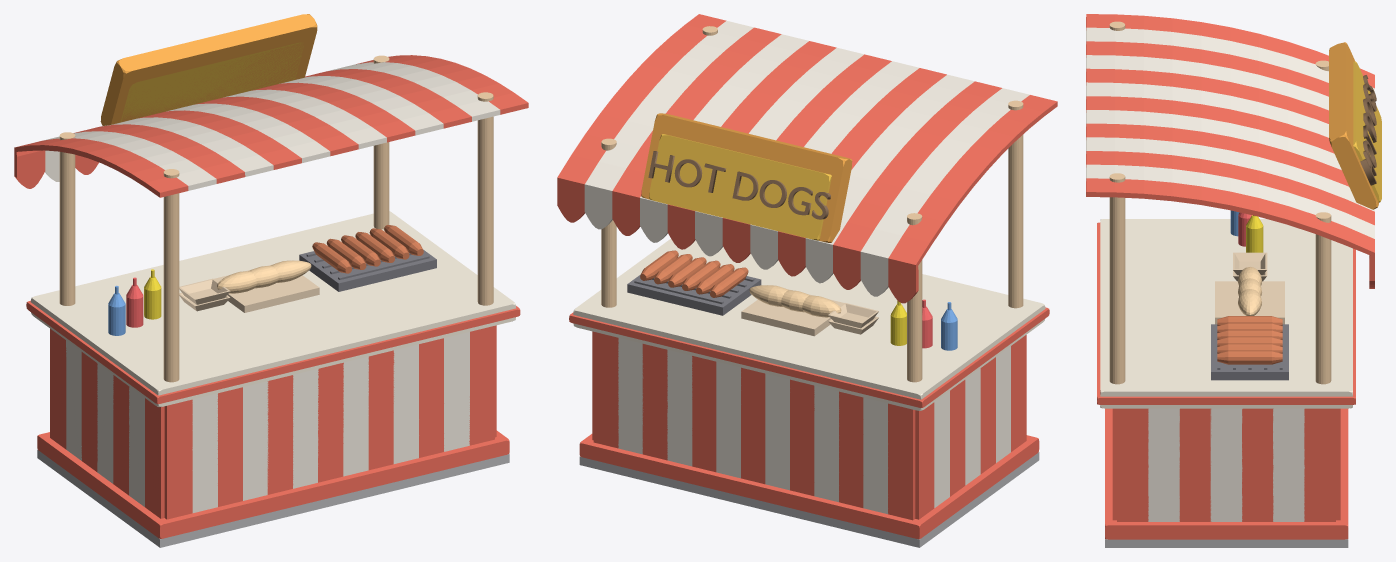
Rendered from 33-hot-dog-stand-hd9.glb.
3 renders of one model, left to right at view 1: azimuth 30°, elevation 25°; view 2: azimuth 150°, elevation 25°; view 3: azimuth 270°, elevation 25°, orthographic. The views are drawn at different scales.
Parts seen in each view (by area): view 1: Countertop, Canopy, SignFrame, BaseTrim, SignPlate, CounterRim, BasePlate, Post_2, Post_3, Skirt_back_0, Skirt_back_6, Skirt_back_1 (+24 smaller); view 2: Canopy, Countertop, SignPlate, BaseTrim, SignFrame, CounterRim, BasePlate, Skirt_front_0, Skirt_front_12, Skirt_front_10, Skirt_front_9, Post_2 (+23 smaller); view 3: Canopy, Countertop, BaseTrim, SignFrame, Skirt_right_3, Skirt_right_6, Skirt_right_0, Skirt_right_1, Skirt_right_5, Skirt_right_4, Skirt_right_2, CounterRim (+18 smaller).
Boxes of the visible parts, bbox=[...] form: Countertop: bbox=[30, 211, 515, 406]; Canopy: bbox=[14, 55, 528, 197]; SignFrame: bbox=[100, 14, 317, 125]; BaseTrim: bbox=[37, 430, 509, 538]; SignPlate: bbox=[120, 42, 303, 122]; CounterRim: bbox=[26, 300, 520, 404]; BasePlate: bbox=[37, 449, 509, 547]; Post_2: bbox=[163, 169, 179, 382]; Post_3: bbox=[477, 92, 493, 305]; Skirt_back_0: bbox=[164, 399, 192, 519]; Skirt_back_6: bbox=[318, 362, 343, 482]; Skirt_back_1: bbox=[192, 393, 217, 512]; Canopy: bbox=[557, 14, 1057, 303]; Countertop: bbox=[573, 239, 1045, 410]; SignPlate: bbox=[649, 134, 831, 240]; BaseTrim: bbox=[579, 434, 1039, 539]; SignFrame: bbox=[641, 113, 852, 242]; CounterRim: bbox=[569, 307, 1049, 407]; BasePlate: bbox=[579, 452, 1039, 547]; Skirt_front_0: bbox=[888, 403, 915, 520]; Skirt_front_12: bbox=[593, 332, 618, 448]; Skirt_front_10: bbox=[642, 344, 667, 460]; Skirt_front_9: bbox=[667, 349, 692, 466]; Post_2: bbox=[1008, 100, 1023, 308]; Canopy: bbox=[1086, 14, 1374, 288]; Countertop: bbox=[1100, 219, 1352, 408]; BaseTrim: bbox=[1105, 408, 1348, 539]; SignFrame: bbox=[1329, 42, 1378, 209]; Skirt_right_3: bbox=[1210, 408, 1242, 521]; Skirt_right_6: bbox=[1117, 408, 1148, 521]; Skirt_right_0: bbox=[1304, 408, 1335, 521]; Skirt_right_1: bbox=[1273, 408, 1304, 521]; Skirt_right_5: bbox=[1148, 408, 1179, 521]; Skirt_right_4: bbox=[1179, 408, 1211, 521]; Skirt_right_2: bbox=[1242, 408, 1273, 521]; CounterRim: bbox=[1097, 222, 1355, 404].
Bounding box in the file's own units: 2.7 × 2.66 × 1.9.
